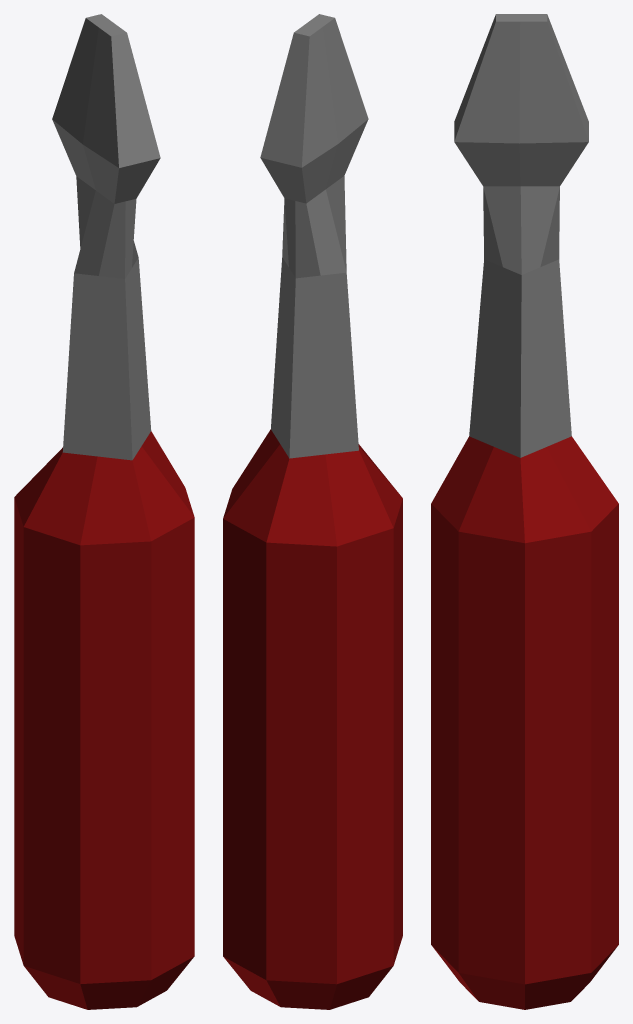
Rendered from Screwdriver.glb.
3 views of the same model, side by side, from view 1: azimuth 30°, elevation 25°; view 2: azimuth 150°, elevation 25°; view 3: azimuth 270°, elevation 25° (orthographic).
Visible parts, largest first — view 1: Screwdriver; view 2: Screwdriver; view 3: Screwdriver.
Part boxes in pixels (<box>): Screwdriver: <box>14,14,194,1009</box>; Screwdriver: <box>223,14,402,1009</box>; Screwdriver: <box>431,14,618,1009</box>.
Bounding box in the file's own units: 2.4 × 13.59 × 2.4.
